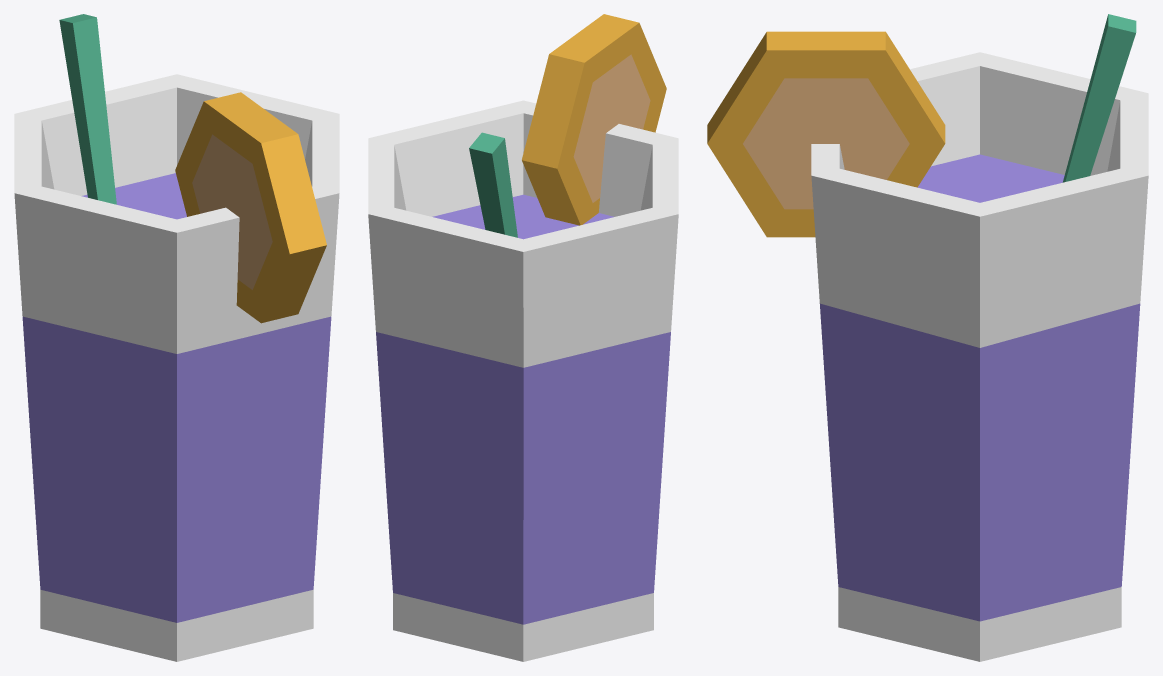
File: sodaGlass.dae
The picture shows the model from 3 angles, left to right: view 1: azimuth 30°, elevation 25°; view 2: azimuth 150°, elevation 25°; view 3: azimuth 270°, elevation 25°; orthographic projection. The views are drawn at different scales.
Parts seen in each view (by area): view 1: sodaGlass, lemon, straw; view 2: sodaGlass, lemon, straw; view 3: sodaGlass, lemon, straw.
Part boxes in pixels (x1=…): sodaGlass: x1=14, y1=74, x2=339, y2=661; lemon: x1=175, y1=92, x2=326, y2=323; straw: x1=59, y1=14, x2=116, y2=204; sodaGlass: x1=368, y1=100, x2=678, y2=661; lemon: x1=522, y1=14, x2=666, y2=225; straw: x1=469, y1=132, x2=517, y2=237; sodaGlass: x1=811, y1=52, x2=1148, y2=661; lemon: x1=707, y1=31, x2=945, y2=237; straw: x1=1062, y1=14, x2=1136, y2=182.
Size of the model in its own units: 0.2618 by 0.4134 by 0.2967.
